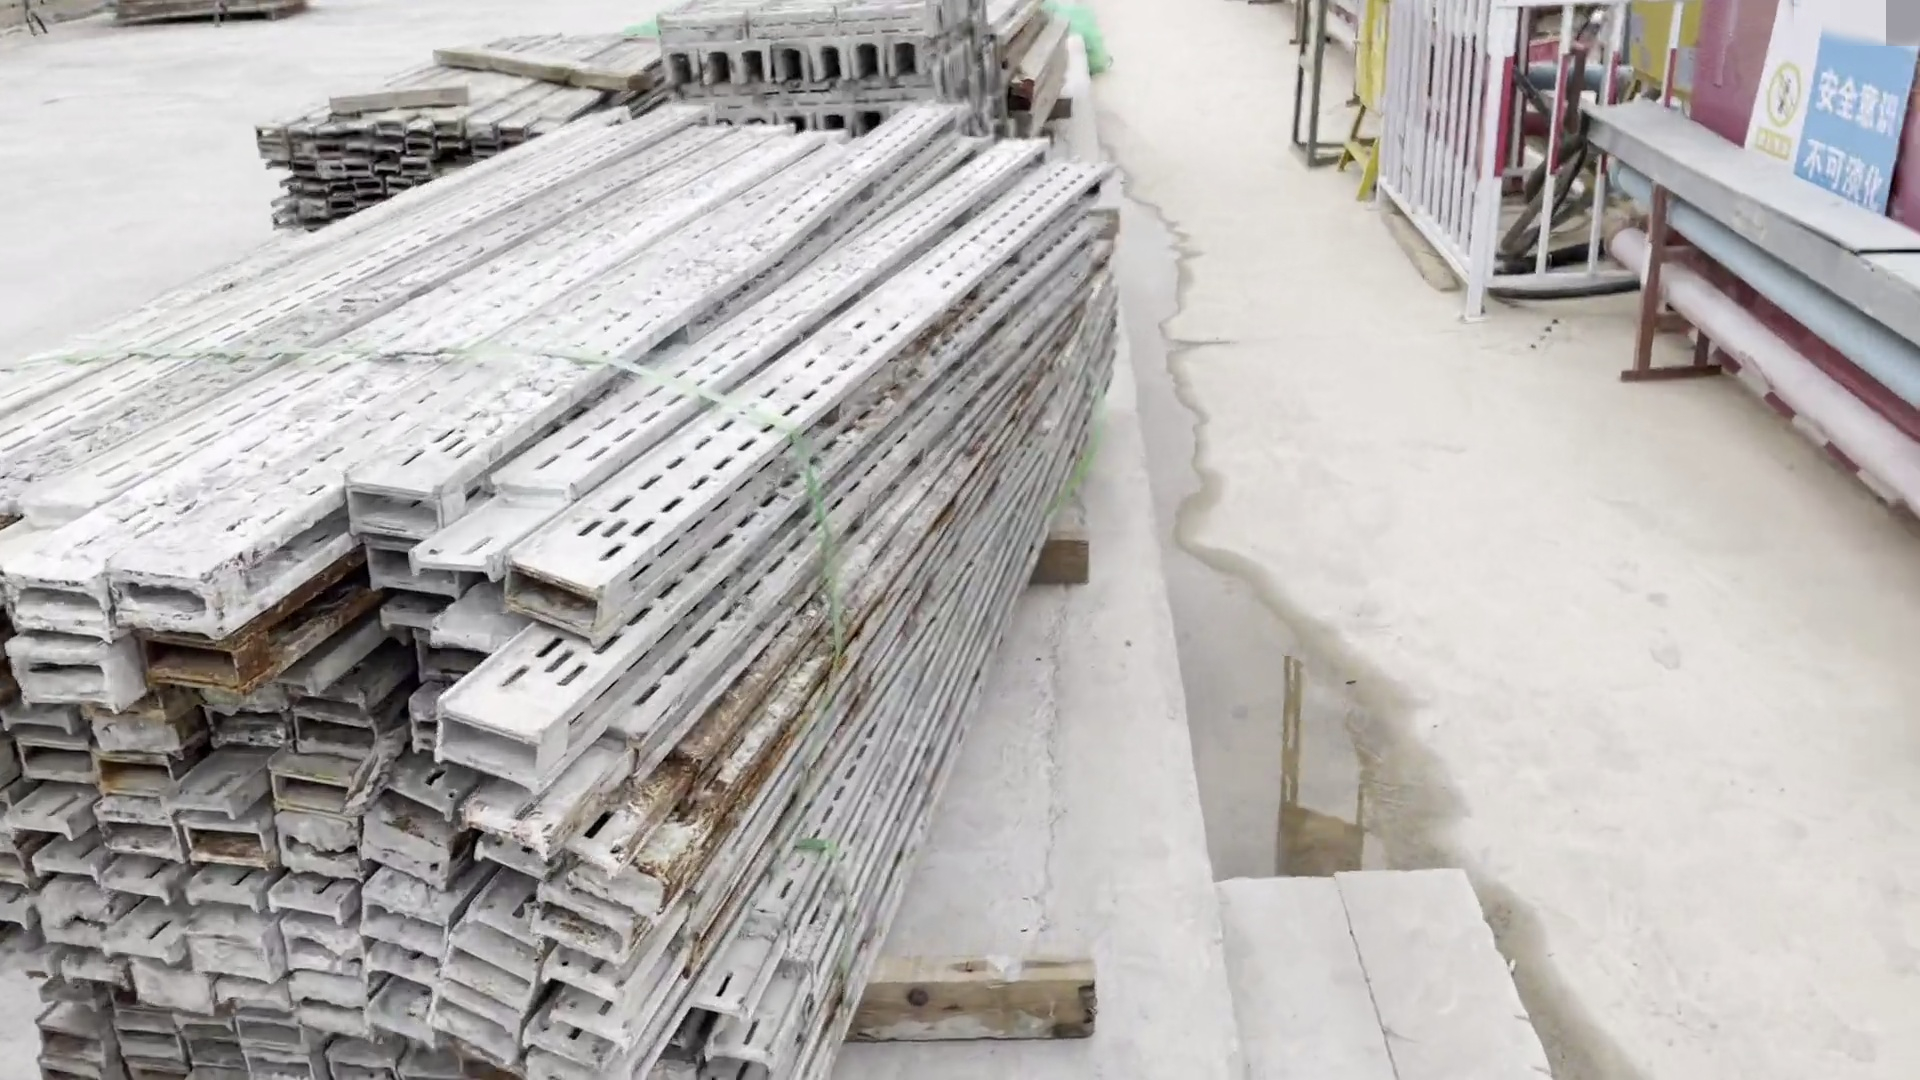brick: (1217, 861, 1571, 1080)
ebox: (1331, 1, 1387, 200)
fence: (1683, 4, 1920, 260)
slogan: (1729, 1, 1920, 236)
